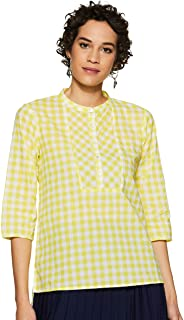shirt: (6, 87, 176, 286)
